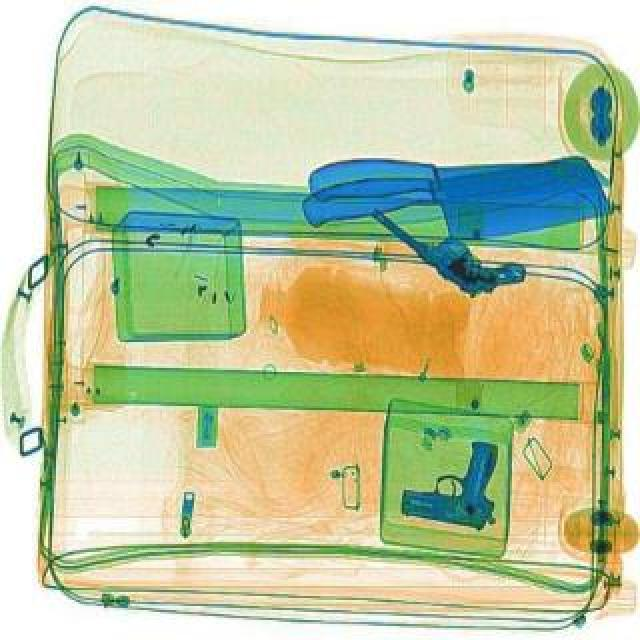gun: (362, 186, 538, 312), (396, 424, 512, 534)
knife: (294, 140, 616, 268), (306, 150, 610, 208)
